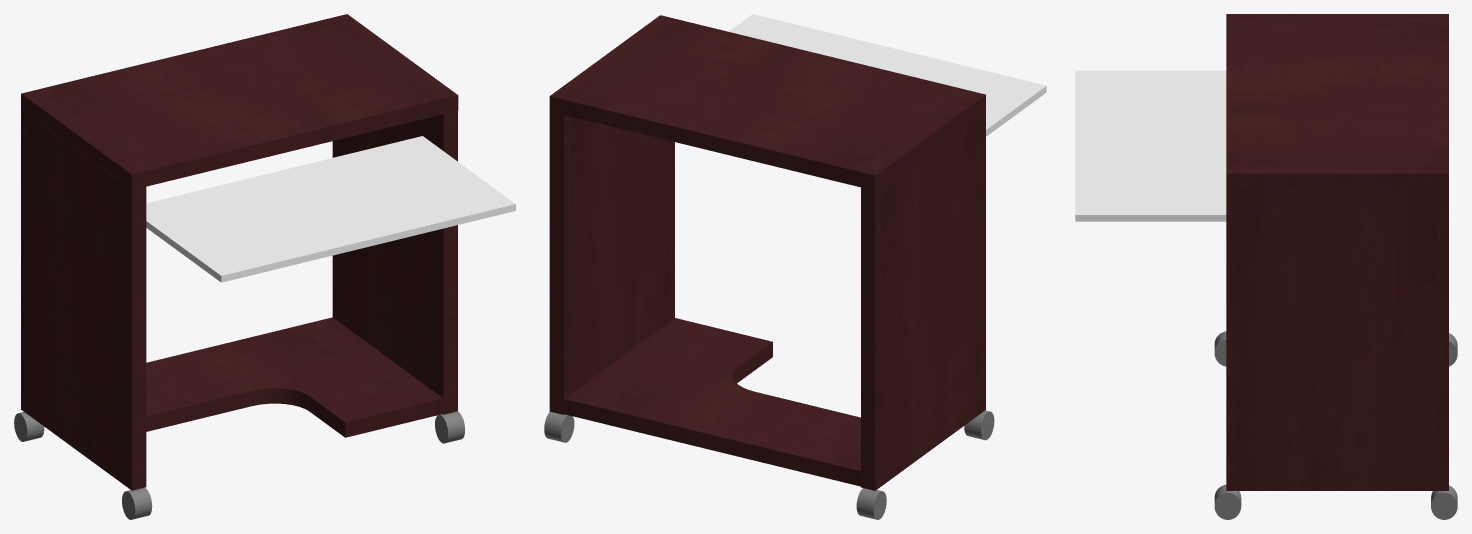
The model's file is sh-contrib-bureau-info-ouvert.glb.
3 renders of one model, left to right at view 1: azimuth 30°, elevation 25°; view 2: azimuth 150°, elevation 25°; view 3: azimuth 270°, elevation 25°, orthographic.
Visible parts, largest first — view 1: Cube_17_1, Cube_19_5, Cylinder_9_6; view 2: Cube_17_1, Cube_19_5, Cylinder_9_6; view 3: Cube_17_1, Cube_19_5, Cylinder_9_6.
Part boxes in pixels (x1,y1,x2,y2): Cube_17_1: [21, 14, 458, 490]; Cube_19_5: [146, 136, 515, 282]; Cylinder_9_6: [14, 411, 464, 519]; Cube_17_1: [549, 15, 985, 490]; Cube_19_5: [729, 14, 1046, 136]; Cylinder_9_6: [544, 410, 994, 519]; Cube_17_1: [1226, 14, 1448, 490]; Cube_19_5: [1075, 70, 1226, 221]; Cylinder_9_6: [1214, 331, 1457, 519].
Bounding box in the file's own units: 1 × 1 × 1.
Materials: 4 (1 with a texture image).
